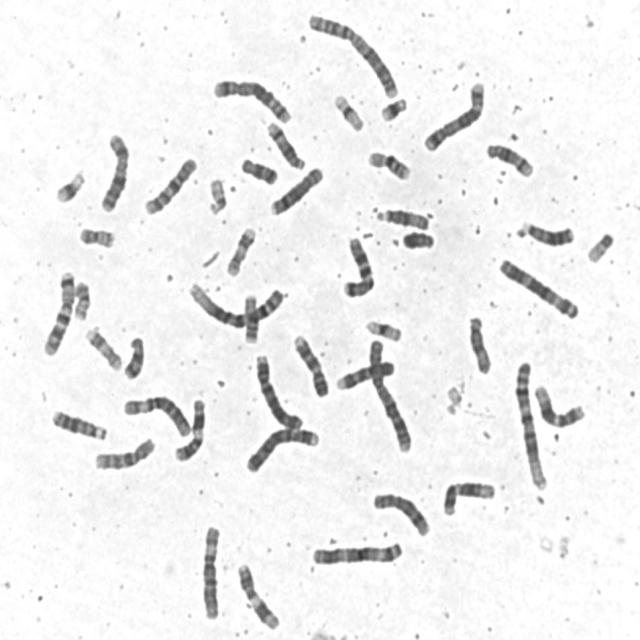A1: (510, 354, 551, 492), (184, 277, 287, 330)
A2: (303, 8, 401, 99), (364, 333, 414, 455)
A3: (494, 252, 582, 322), (307, 536, 405, 568)
B4: (251, 349, 304, 432), (241, 423, 321, 475)
B5: (419, 76, 487, 153), (209, 73, 293, 125)
C10: (140, 152, 199, 217), (90, 432, 157, 472)
C11: (233, 558, 282, 632), (170, 393, 208, 463)
C12: (530, 380, 587, 430), (439, 475, 498, 518)
C6: (120, 390, 192, 438), (196, 520, 222, 622)
C7: (38, 265, 77, 358), (338, 231, 376, 300)
C8: (266, 162, 325, 218), (368, 488, 433, 538)
C9: (289, 329, 331, 399), (331, 356, 398, 392)
D13: (48, 404, 108, 442), (513, 215, 576, 248)
D14: (263, 116, 307, 172), (481, 137, 536, 178)
D15: (463, 310, 494, 376), (372, 202, 431, 232)
E16: (363, 146, 413, 182), (237, 293, 266, 345)
E17: (81, 322, 124, 372), (222, 222, 258, 278)
E18: (236, 152, 280, 187), (120, 331, 146, 381)
F19: (329, 87, 366, 133), (361, 316, 404, 344)
F20: (74, 221, 117, 250), (70, 276, 92, 321)
G21: (51, 164, 88, 205), (376, 93, 409, 123)
G22: (582, 227, 616, 264), (204, 172, 229, 218)
X: (95, 127, 132, 214)
Y: (398, 226, 437, 252)
